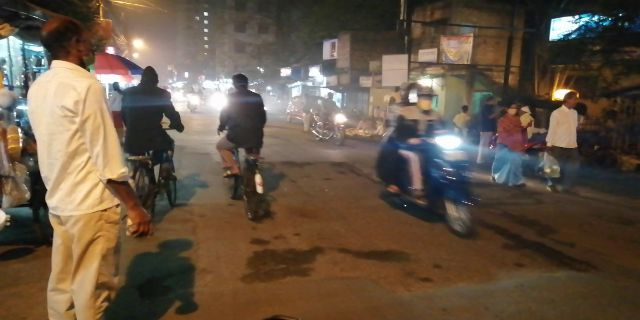Cycle: (213, 69, 280, 218)
Motorbike: (382, 132, 487, 241)
